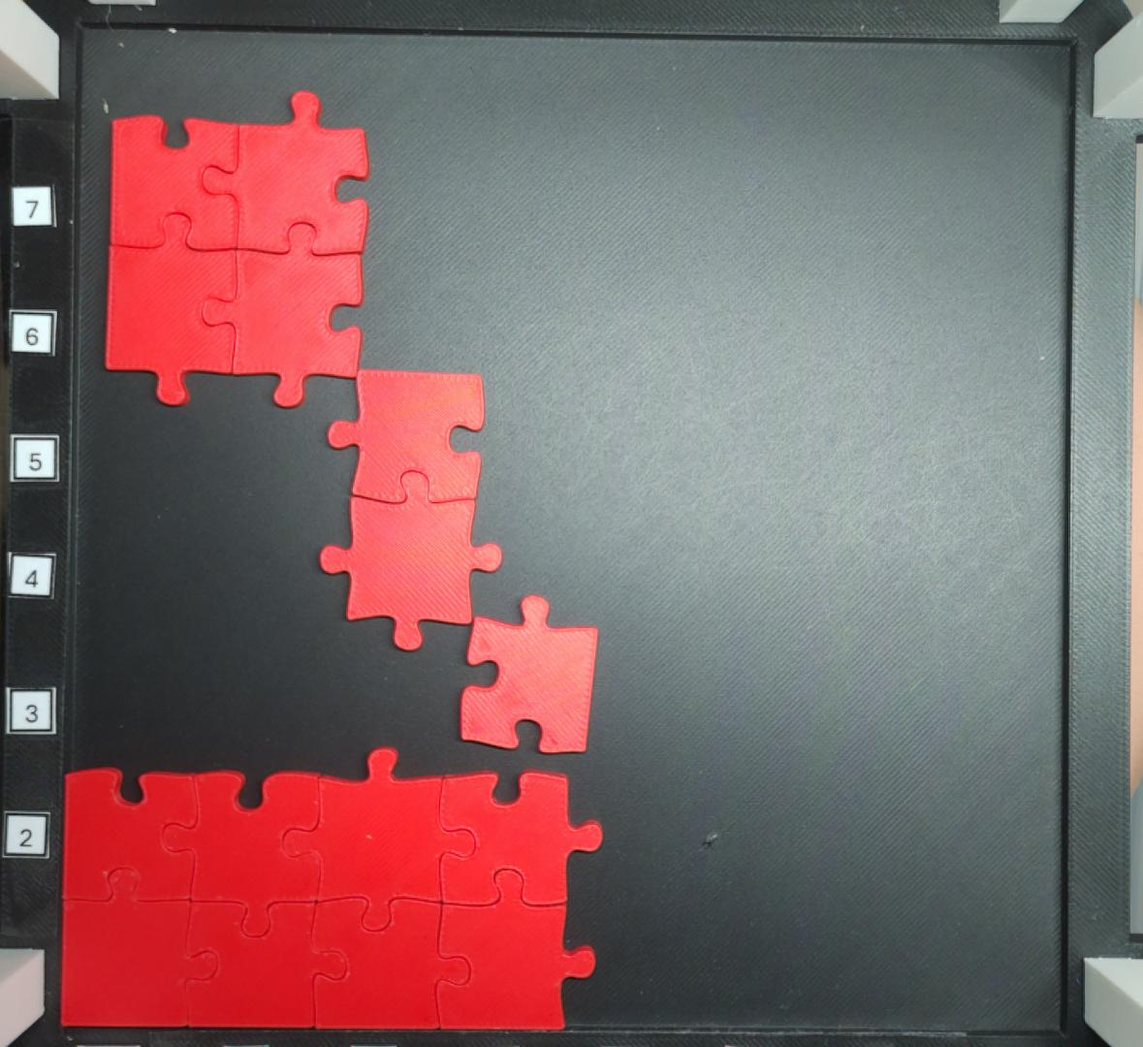p_1: (458, 592, 598, 756)
p_2: (317, 367, 503, 651)
p_4: (104, 88, 372, 413)
p_m: (59, 746, 605, 1032)
